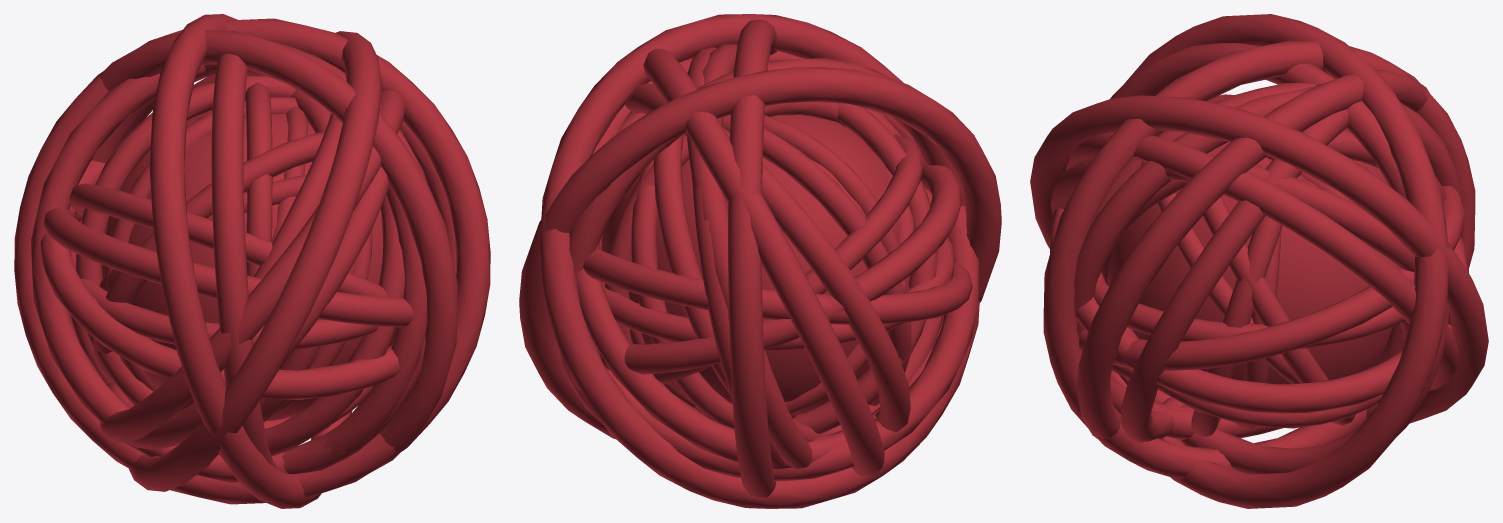
Rendered from Klembek_basicAttack.fbx.
The picture shows the model from 3 angles, left to right: view 1: azimuth 30°, elevation 25°; view 2: azimuth 150°, elevation 25°; view 3: azimuth 270°, elevation 25°; orthographic projection.
Visible parts, largest first — view 1: Cube; view 2: Cube; view 3: Cube.
Part boxes in pixels (box(x1,y1,x2,y2)): Cube: box(14, 14, 490, 508); Cube: box(519, 14, 1001, 508); Cube: box(1030, 14, 1488, 508).
Size of the model in its own units: 208 by 236 by 225.
